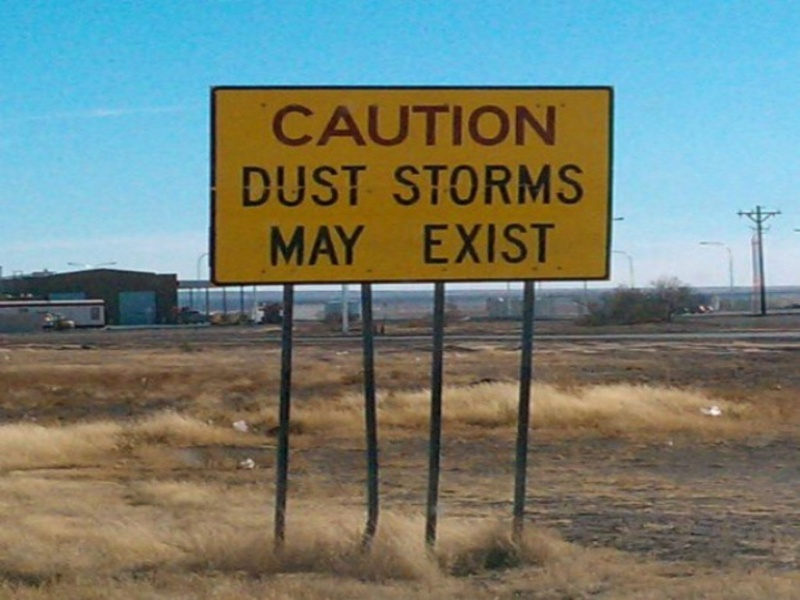warning_dust_storm: (217, 79, 610, 279)
